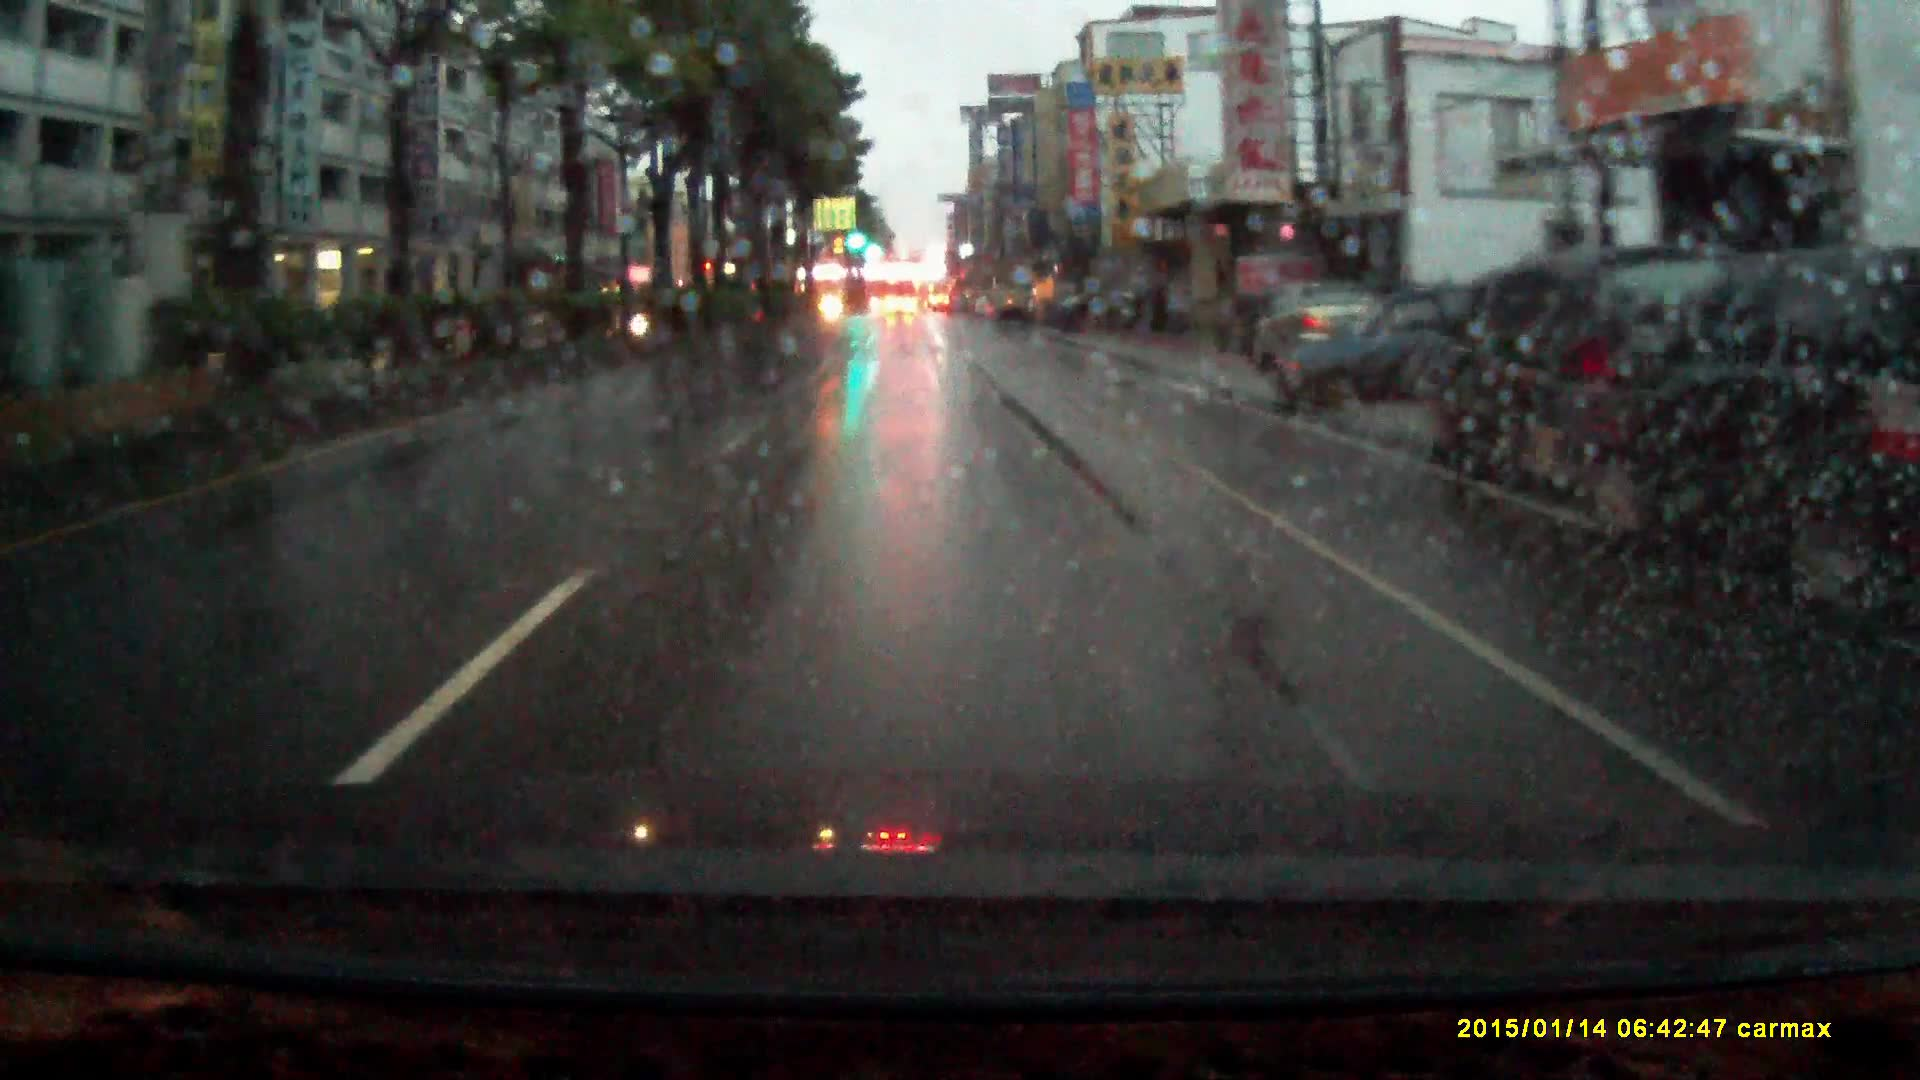vehicle: (1635, 247, 1920, 621), (1412, 247, 1808, 514), (1267, 285, 1556, 411), (1247, 281, 1379, 384), (989, 284, 1033, 328), (886, 295, 918, 319)
